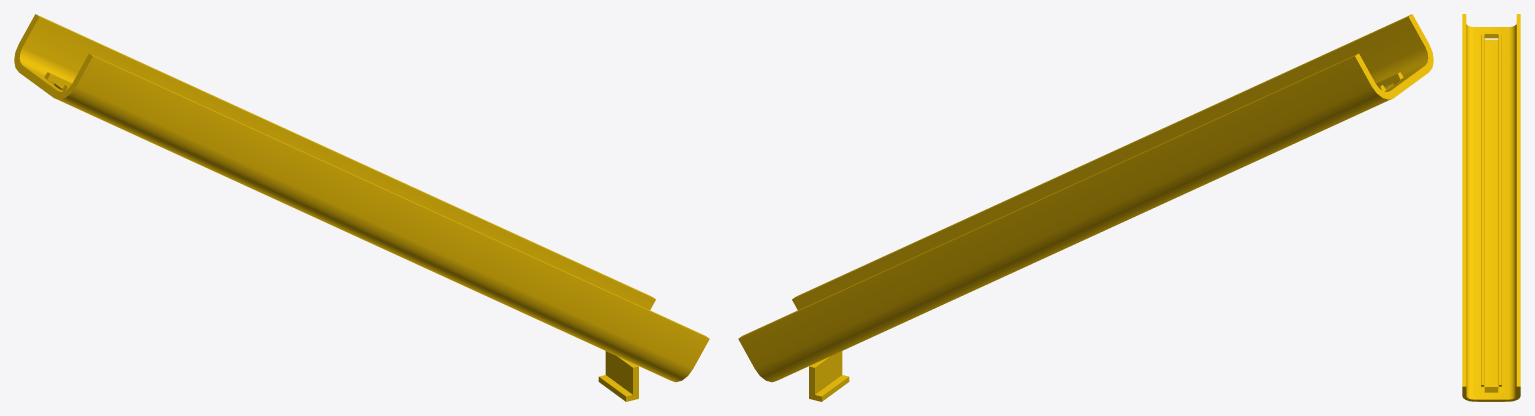
3 renders of one model, left to right at view 1: azimuth 30°, elevation 25°; view 2: azimuth 150°, elevation 25°; view 3: azimuth 270°, elevation 25°, orthographic. The views are drawn at different scales.
Visible parts, largest first — view 1: T-15; view 2: T-15; view 3: T-15.
Part boxes in pixels (<box>): T-15: <box>14,14,709,401</box>; T-15: <box>738,14,1433,401</box>; T-15: <box>1462,14,1520,401</box>.
Bounding box in the file's own units: 0.1498 × 0.1089 × 0.0232.
